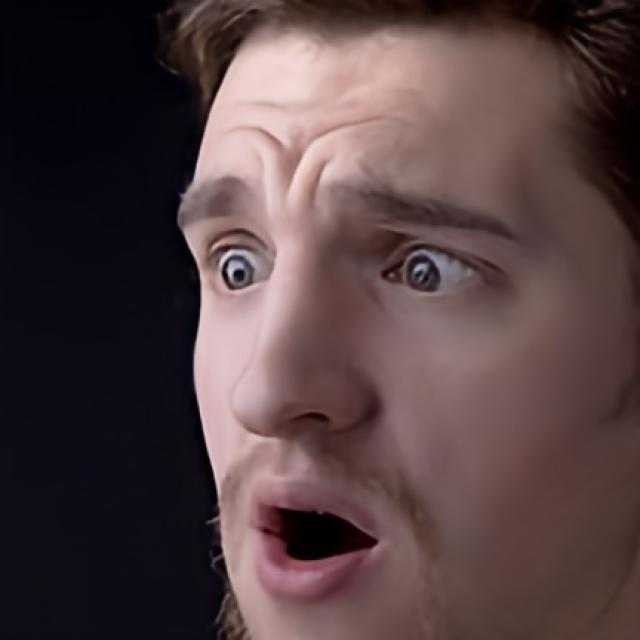fear: (172, 22, 640, 639)
